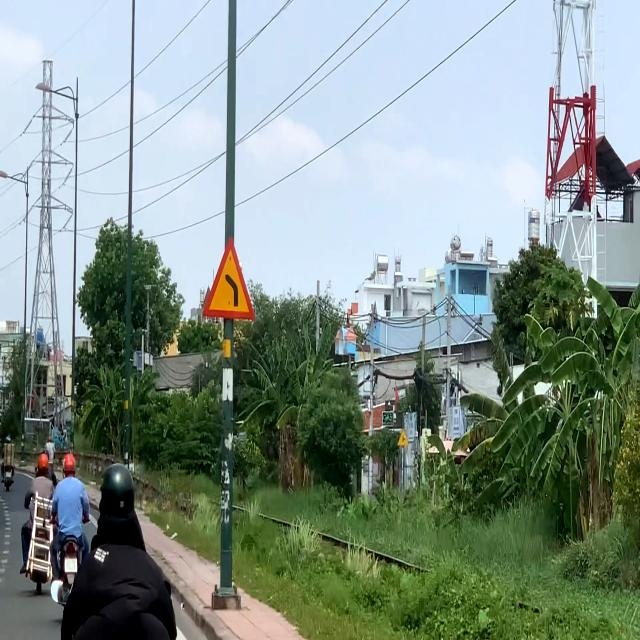bien_nguy_hiem: (199, 234, 258, 330)
